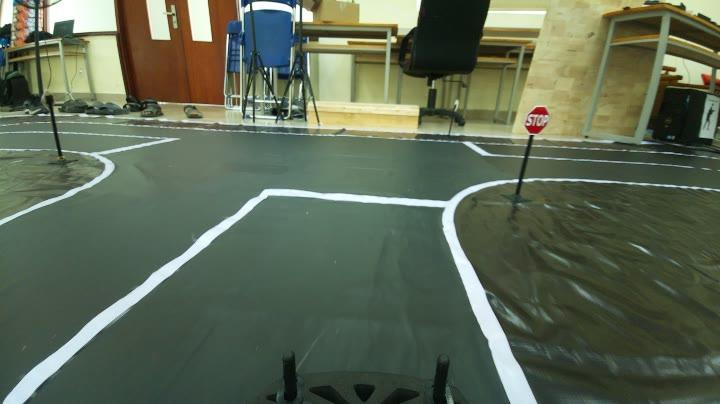stop: (518, 102, 552, 133)
